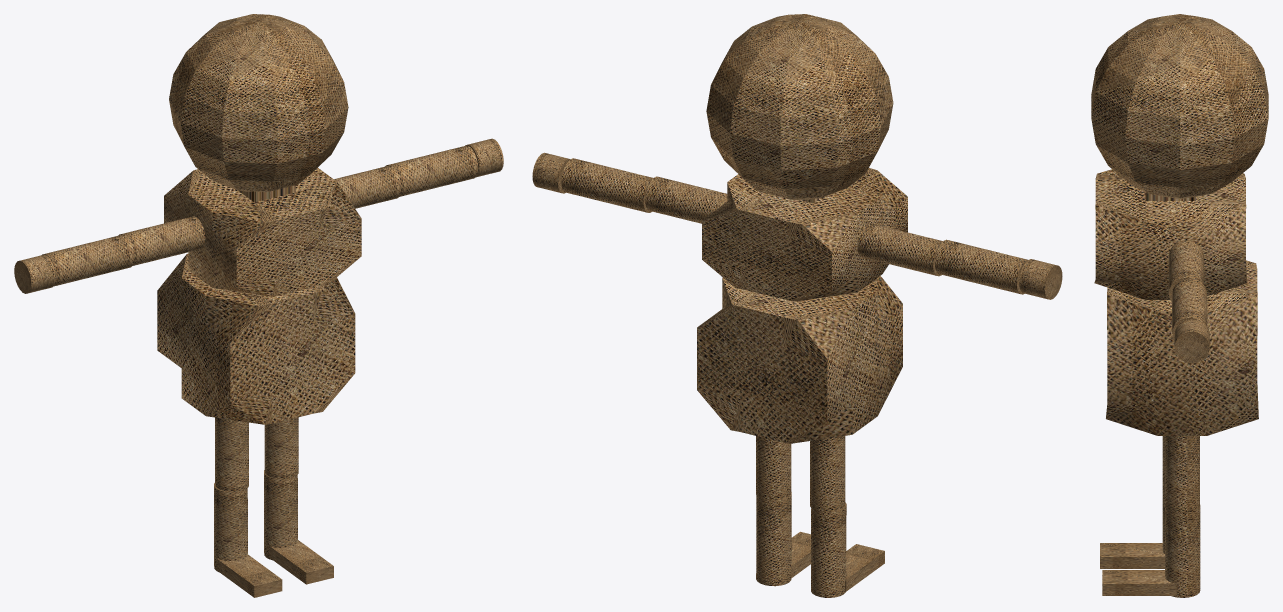
Rendered from doll.fbx.
The picture shows the model from 3 angles, left to right: view 1: azimuth 30°, elevation 25°; view 2: azimuth 150°, elevation 25°; view 3: azimuth 270°, elevation 25°; orthographic projection. The views are drawn at different scales.
Visible parts, largest first — view 1: pSphere1, pCube2, pCube1, pCylinder3, pCylinder4, pCylinder1, pCylinder7, pCylinder8, pCylinder5, pCylinder6, pCylinder2, pCube4 (+3 smaller); view 2: pCube2, pSphere1, pCube1, pCylinder3, pCylinder7, pCylinder4, pCylinder8, pCylinder1, pCylinder5, pCylinder2, pCylinder6, pCylinder10 (+3 smaller); view 3: pSphere1, pCube2, pCube1, pCylinder7, pCylinder6, pCube3, pCube4, pCylinder4, pCylinder2, pCylinder9.
Part boxes in pixels (left/top/right/bottom): pSphere1: left=169, top=14, right=348, bottom=192; pCube2: left=157, top=253, right=355, bottom=424; pCube1: left=164, top=168, right=361, bottom=296; pCylinder3: left=42, top=234, right=134, bottom=286; pCylinder4: left=385, top=145, right=478, bottom=196; pCylinder1: left=118, top=216, right=205, bottom=265; pCylinder7: left=264, top=470, right=297, bottom=560; pCylinder8: left=214, top=483, right=247, bottom=572; pCylinder5: left=215, top=417, right=248, bottom=491; pCylinder6: left=264, top=417, right=298, bottom=479; pCylinder2: left=334, top=165, right=401, bottom=208; pCube4: left=217, top=554, right=282, bottom=597; pCube2: left=697, top=276, right=902, bottom=443; pSphere1: left=706, top=14, right=893, bottom=200; pCube1: left=702, top=168, right=907, bottom=301; pCylinder3: left=935, top=239, right=1027, bottom=294; pCylinder7: left=756, top=492, right=791, bottom=586; pCylinder4: left=561, top=158, right=652, bottom=212; pCylinder8: left=811, top=502, right=846, bottom=597; pCylinder1: left=857, top=223, right=942, bottom=276; pCylinder5: left=810, top=436, right=845, bottom=511; pCylinder2: left=645, top=176, right=727, bottom=223; pCylinder6: left=756, top=436, right=791, bottom=499; pCylinder10: left=1019, top=259, right=1062, bottom=299; pSphere1: left=1091, top=14, right=1268, bottom=198; pCube2: left=1106, top=260, right=1258, bottom=435; pCube1: left=1094, top=169, right=1247, bottom=299; pCylinder7: left=1165, top=505, right=1200, bottom=597; pCylinder6: left=1164, top=436, right=1199, bottom=513; pCube3: left=1102, top=570, right=1176, bottom=595; pCube4: left=1100, top=543, right=1164, bottom=568; pCylinder4: left=1172, top=278, right=1207, bottom=340; pCylinder2: left=1168, top=240, right=1203, bottom=302; pCylinder9: left=1174, top=319, right=1209, bottom=363.
Size of the model in its own units: 240 by 256 by 73.9.
